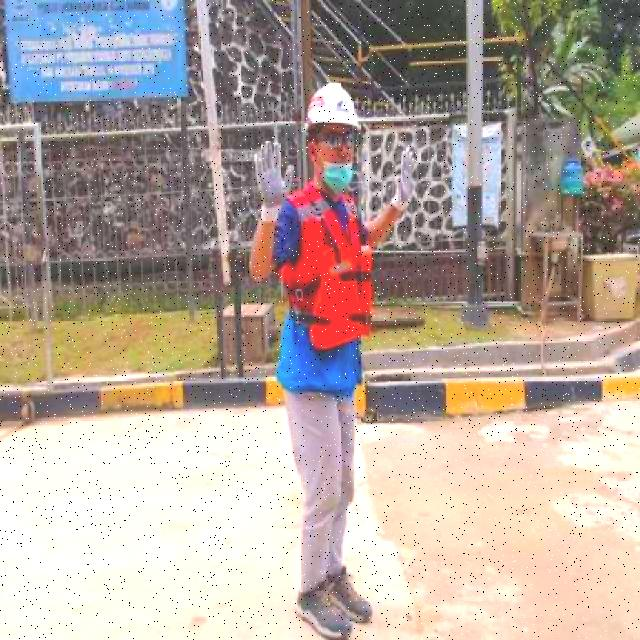Boots: (289, 577, 357, 640), (332, 558, 372, 636)
Gloves: (253, 137, 293, 226), (388, 144, 419, 218)
Helmet: (303, 76, 366, 138)
Mask: (314, 235, 378, 356)
